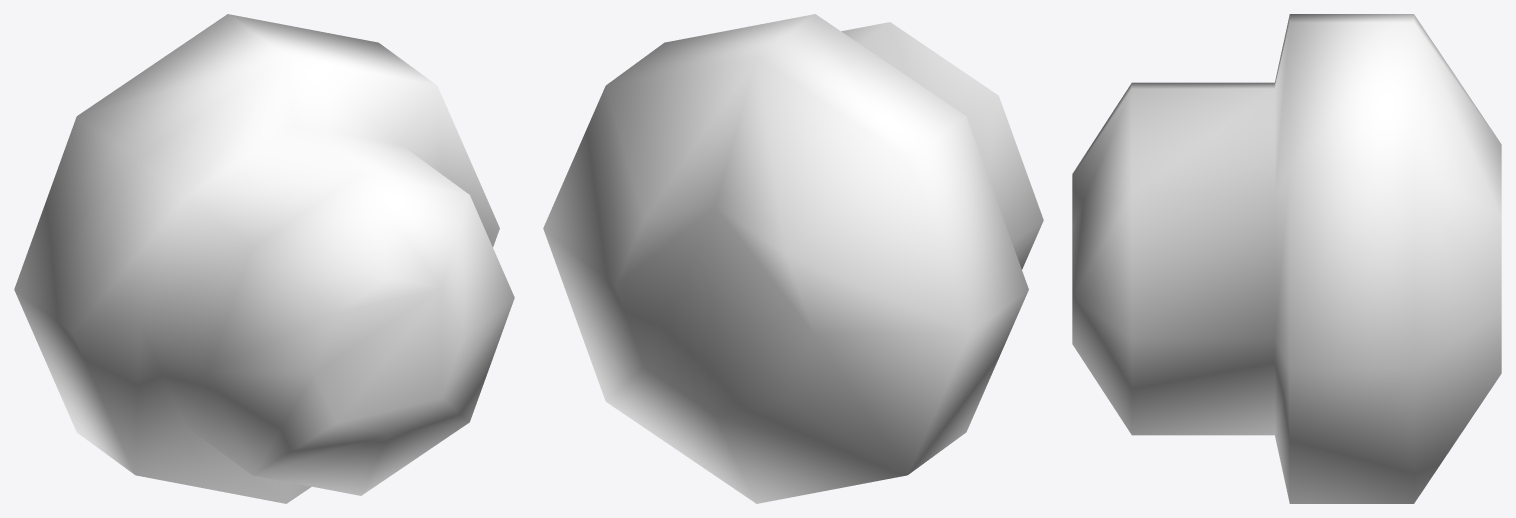
File: lj1_right.obj
The picture shows the model from 3 angles, left to right: view 1: azimuth 30°, elevation 25°; view 2: azimuth 150°, elevation 25°; view 3: azimuth 270°, elevation 25°; orthographic projection. The views are drawn at different scales.
Size of the model in its own units: 0.1207 by 0.1207 by 0.0993.
Materials: 1 (1 with a texture image).
